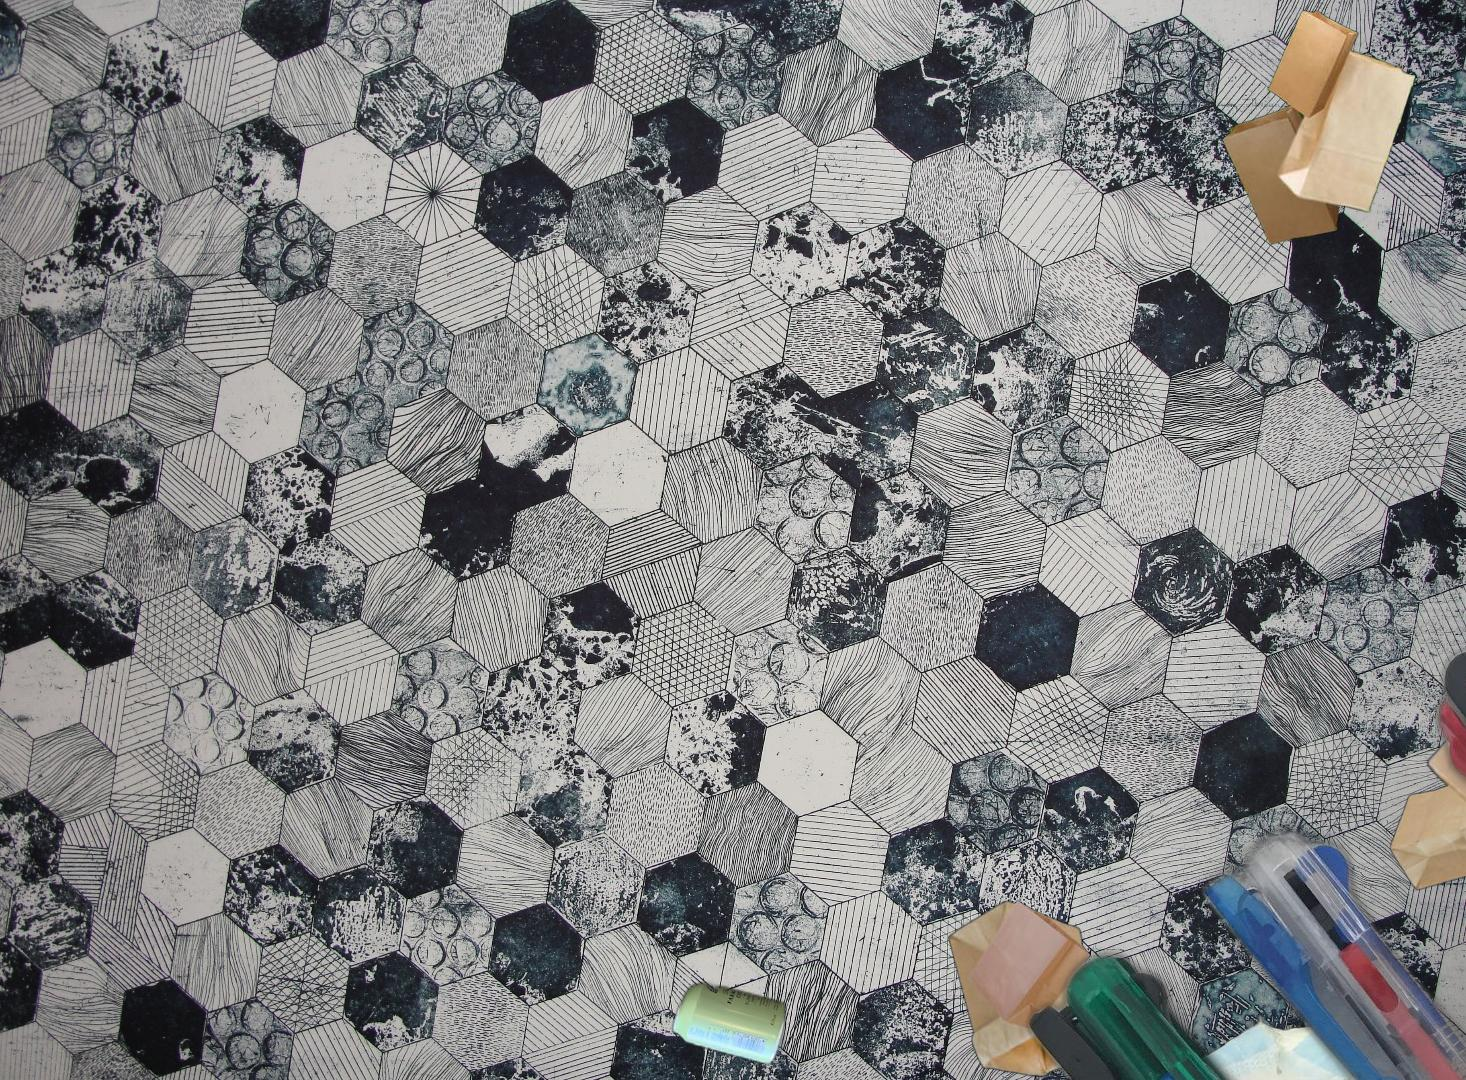metal-cans: (669, 976, 791, 1070)
paper-bag: (1220, 9, 1417, 247), (947, 898, 1112, 1080), (1389, 616, 1466, 893)
penholder: (845, 637, 1466, 1080)
trash: (1173, 1011, 1397, 1080)
